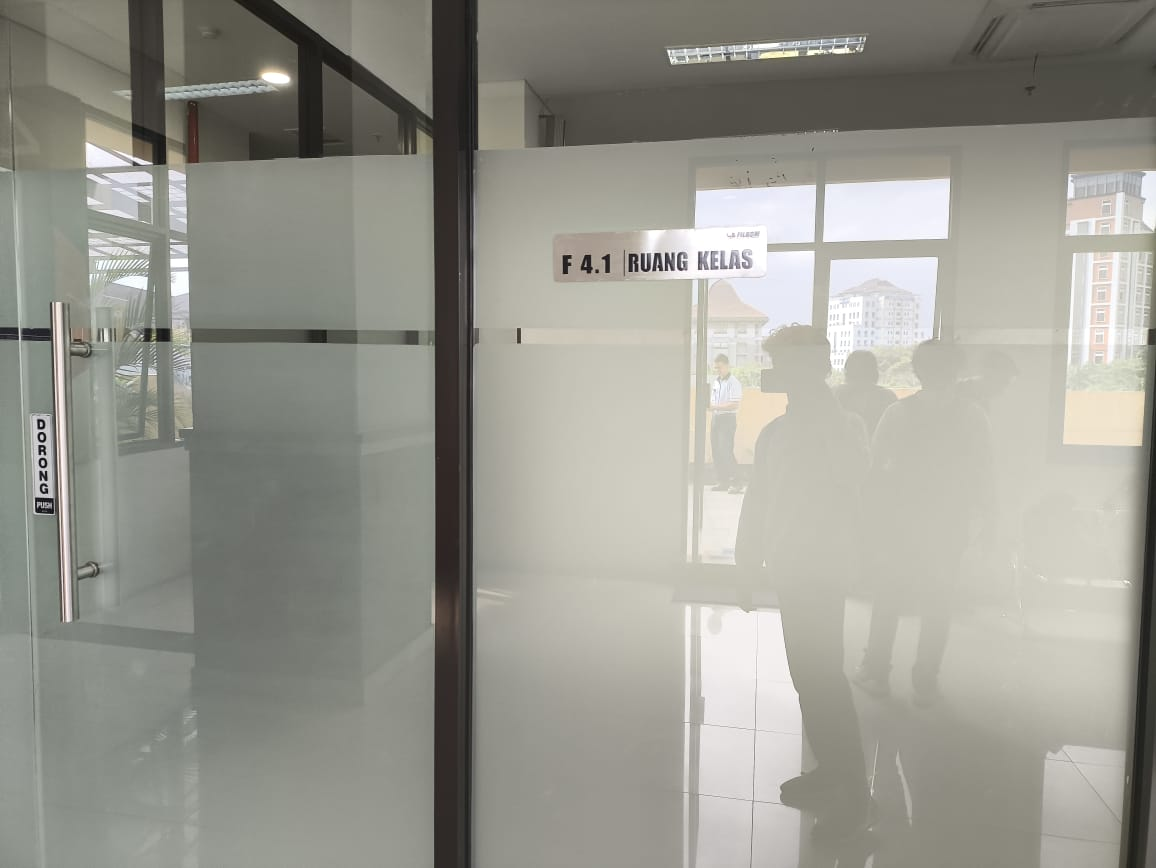ruang kelas: (547, 215, 771, 287)
